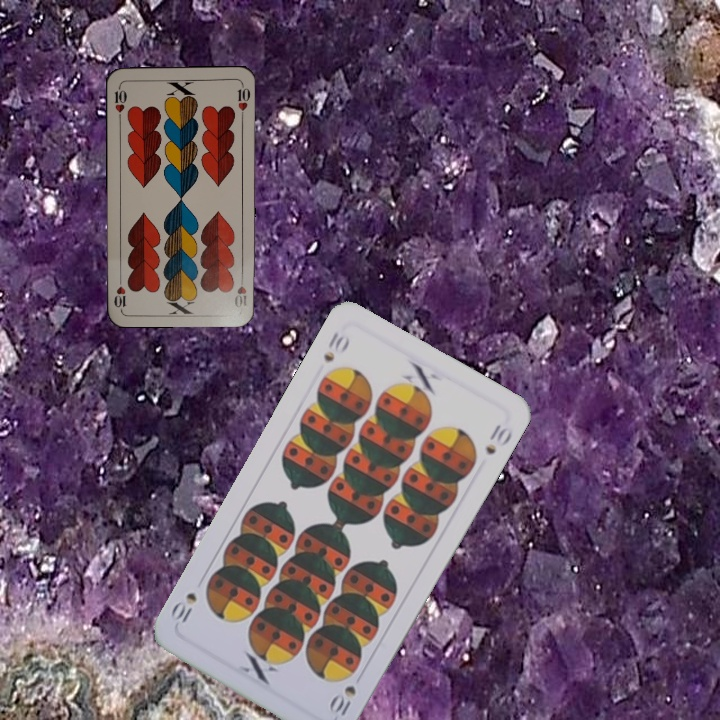H10: (111, 82, 129, 122), (231, 270, 249, 310)
S10: (319, 327, 353, 365), (326, 681, 359, 719)
